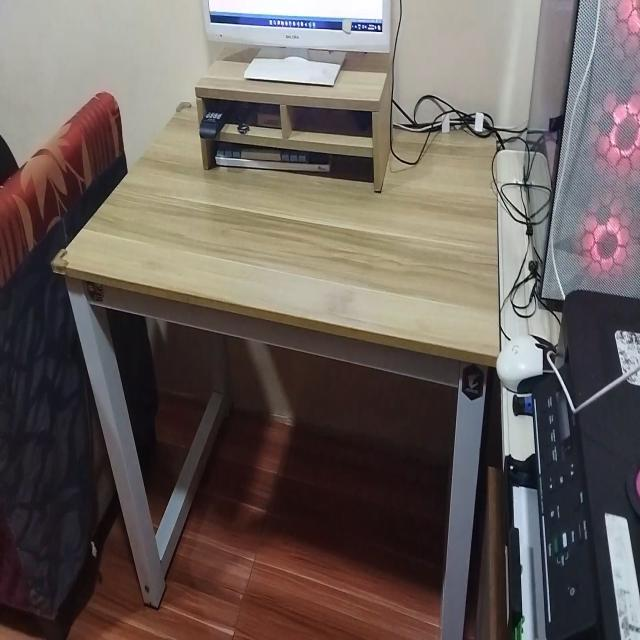table: (62, 87, 497, 640)
